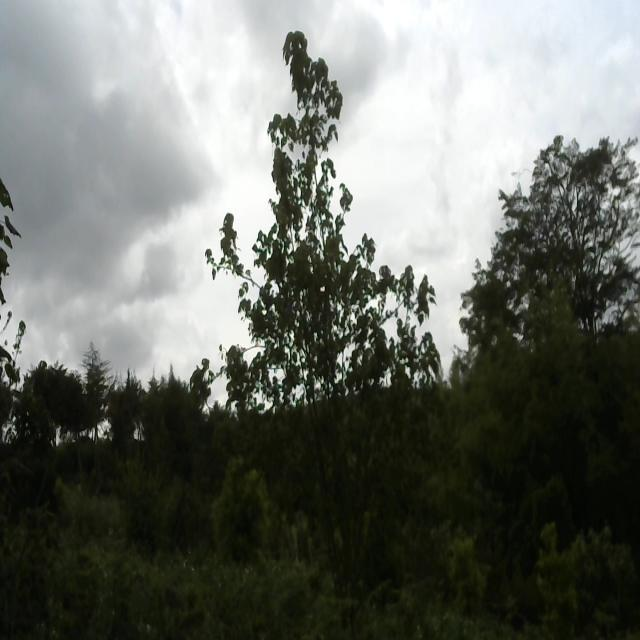cedrus: (76, 338, 111, 437), (162, 362, 190, 438), (114, 364, 142, 435), (142, 366, 162, 438)
other: (207, 25, 445, 635), (500, 135, 640, 347)
